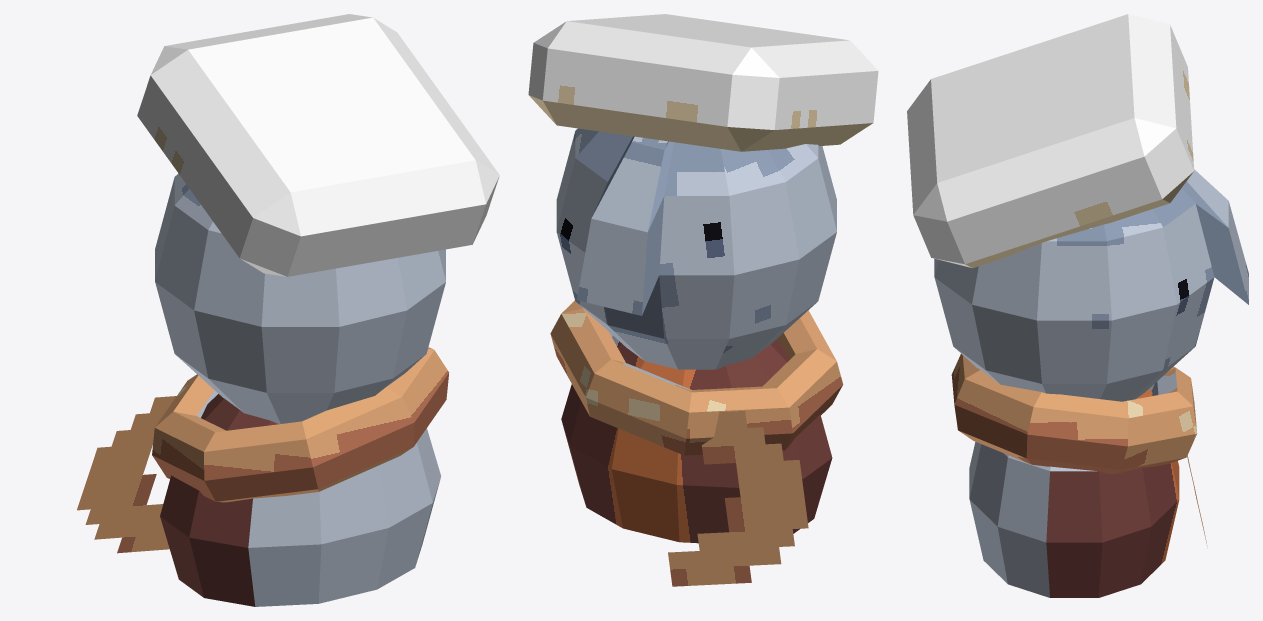
The model's file is IllBase.gltf.
3 views of the same model, side by side, from view 1: azimuth 30°, elevation 25°; view 2: azimuth 150°, elevation 25°; view 3: azimuth 270°, elevation 25° (orthographic). The views are drawn at different scales.
Visible parts, largest first — view 1: sphere, plane; view 2: sphere, plane; view 3: sphere.
Part boxes in pixels (box(x1,y1,x2,y2)): sphere: box(137, 14, 499, 606); plane: box(77, 396, 176, 553); sphere: box(528, 14, 878, 543); plane: box(668, 411, 808, 586); sphere: box(907, 14, 1248, 597).
Bounding box in the file's own units: 1.44 × 2.16 × 1.22.
Materials: 1 (1 with a texture image).
